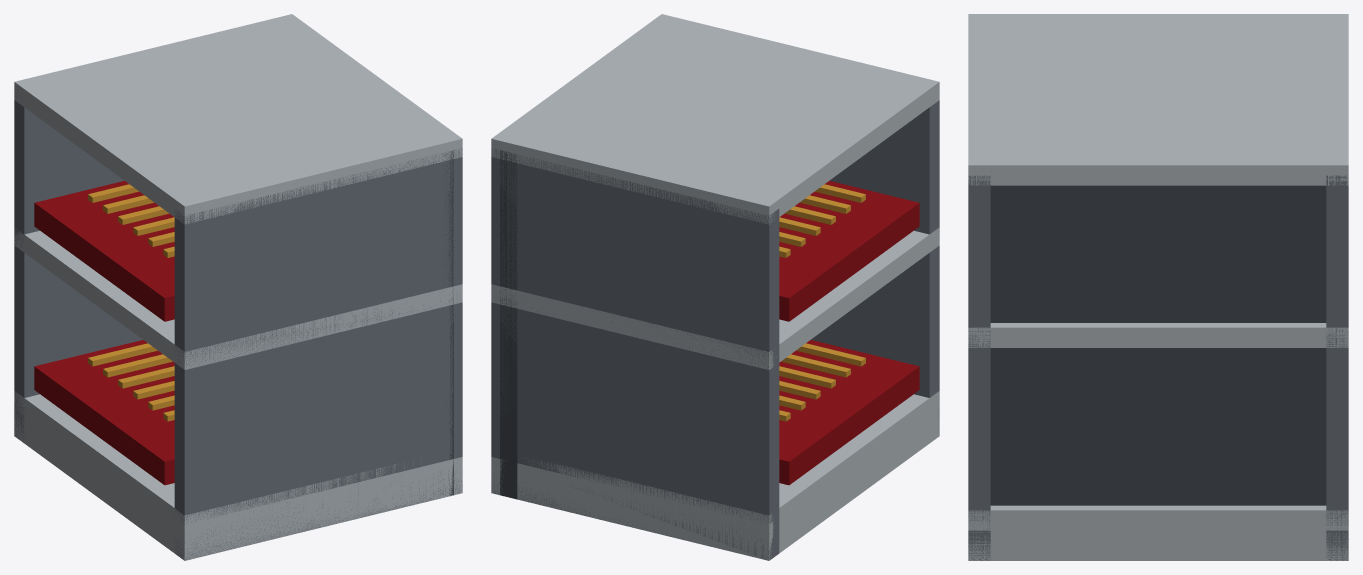
Rendered from L131_USB32_3_TC1.fbx.
The picture shows the model from 3 angles, left to right: view 1: azimuth 30°, elevation 25°; view 2: azimuth 150°, elevation 25°; view 3: azimuth 270°, elevation 25°; orthographic projection. The views are drawn at different scales.
Visible parts, largest first — view 1: USB32_3_TC1_Steel, USB32_3_TC1_Silver, USB32_3_TC1_Red, USB32_3_TC1_Gold, USB32_3_TC1_Gray; view 2: USB32_3_TC1_Steel, USB32_3_TC1_Silver, USB32_3_TC1_Red, USB32_3_TC1_Gray, USB32_3_TC1_Gold; view 3: USB32_3_TC1_Gray, USB32_3_TC1_Silver, USB32_3_TC1_Steel.
Boxes of the visible parts, left/top/right/bottom form: USB32_3_TC1_Steel: left=14, top=91, right=462, bottom=560; USB32_3_TC1_Silver: left=14, top=14, right=462, bottom=560; USB32_3_TC1_Red: left=34, top=181, right=174, bottom=485; USB32_3_TC1_Gold: left=88, top=184, right=174, bottom=421; USB32_3_TC1_Gray: left=444, top=150, right=453, bottom=496; USB32_3_TC1_Steel: left=491, top=100, right=939, bottom=560; USB32_3_TC1_Silver: left=491, top=14, right=939, bottom=560; USB32_3_TC1_Red: left=779, top=181, right=919, bottom=485; USB32_3_TC1_Gray: left=500, top=150, right=517, bottom=499; USB32_3_TC1_Gold: left=779, top=184, right=865, bottom=421; USB32_3_TC1_Gray: left=990, top=185, right=1326, bottom=505; USB32_3_TC1_Silver: left=968, top=14, right=1348, bottom=560; USB32_3_TC1_Steel: left=968, top=175, right=1348, bottom=560.
Bounding box in the file's own units: 1.6 × 1.95 × 1.7.
